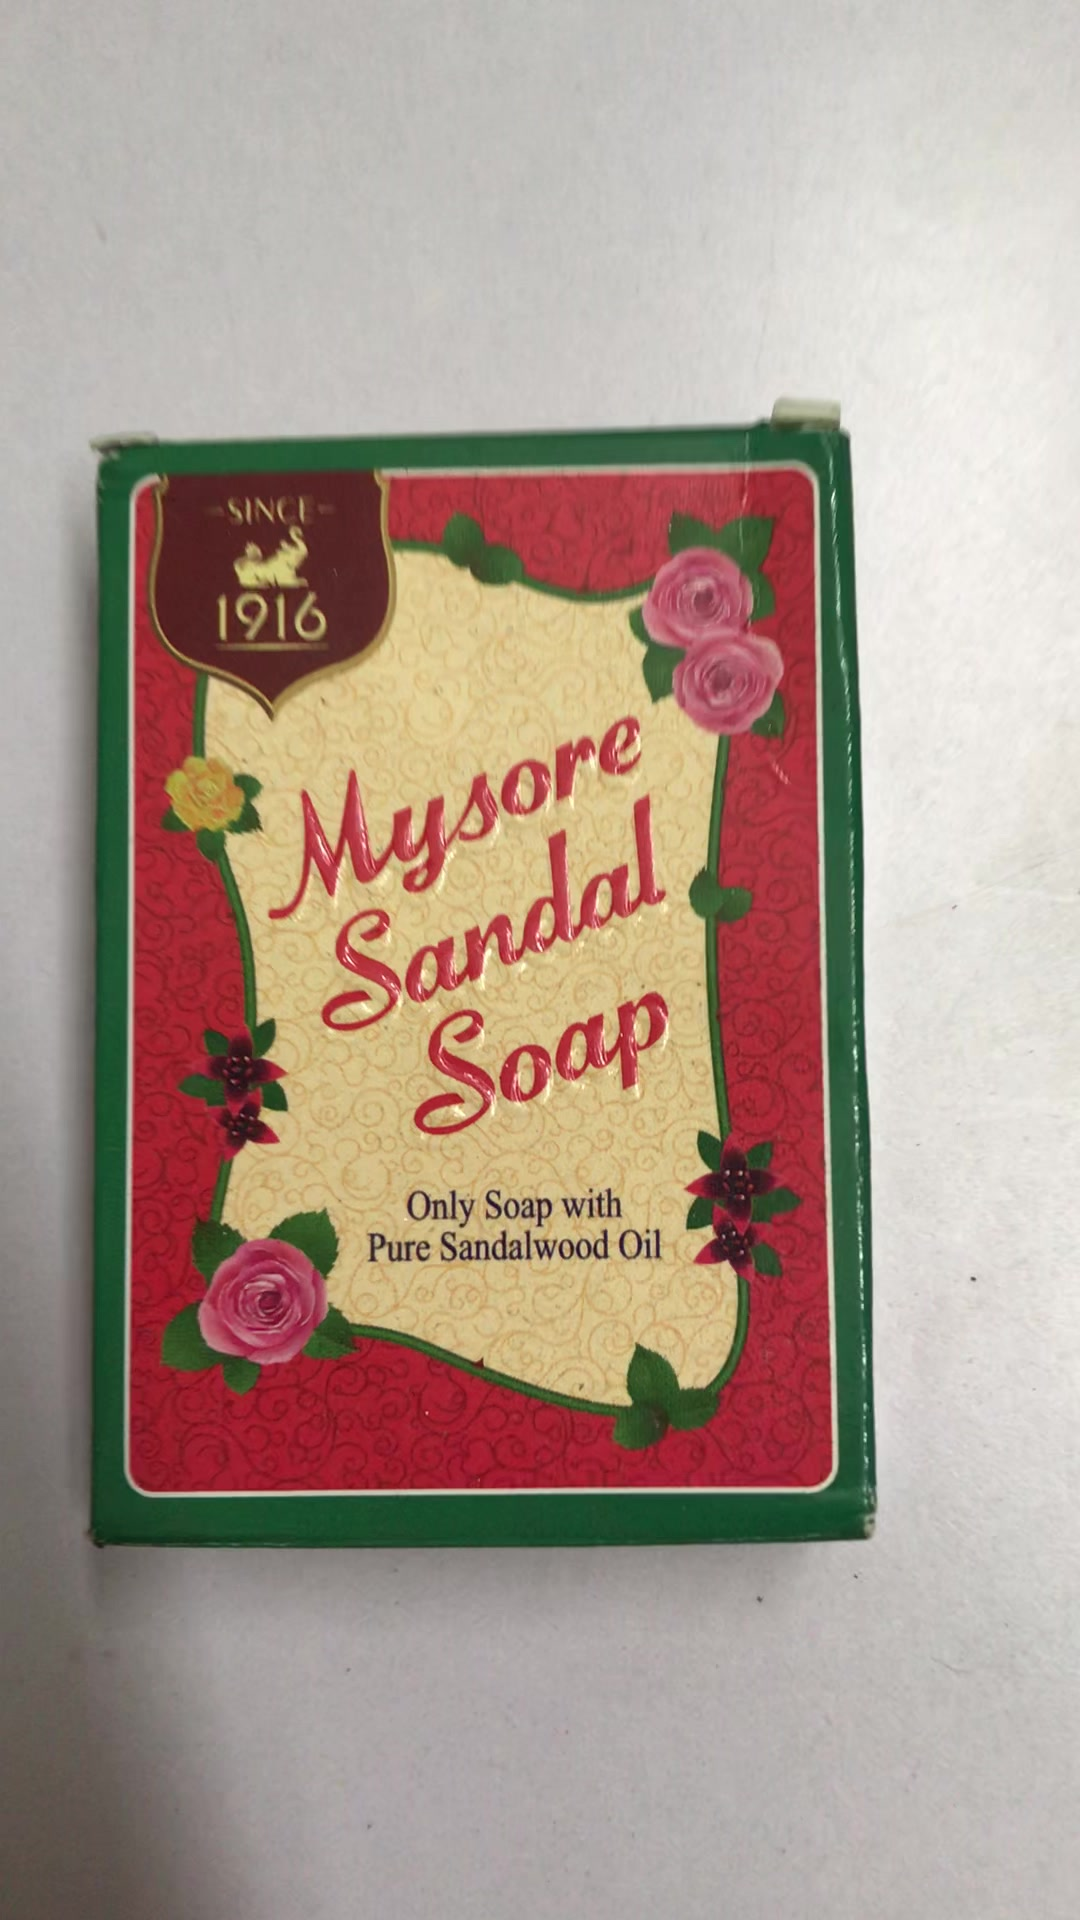mysore sandal soap: (95, 442, 882, 1540)
